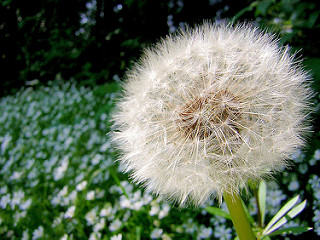dandelion white: (108, 16, 317, 208)
